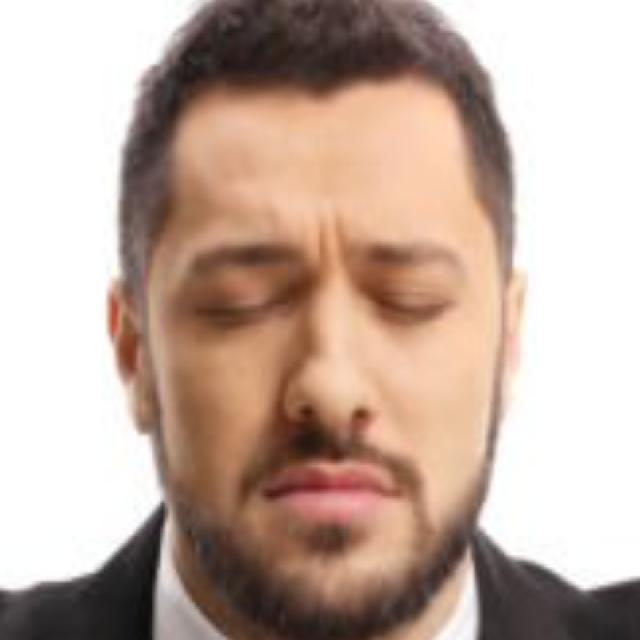close: (343, 211, 475, 339), (173, 225, 314, 338)
